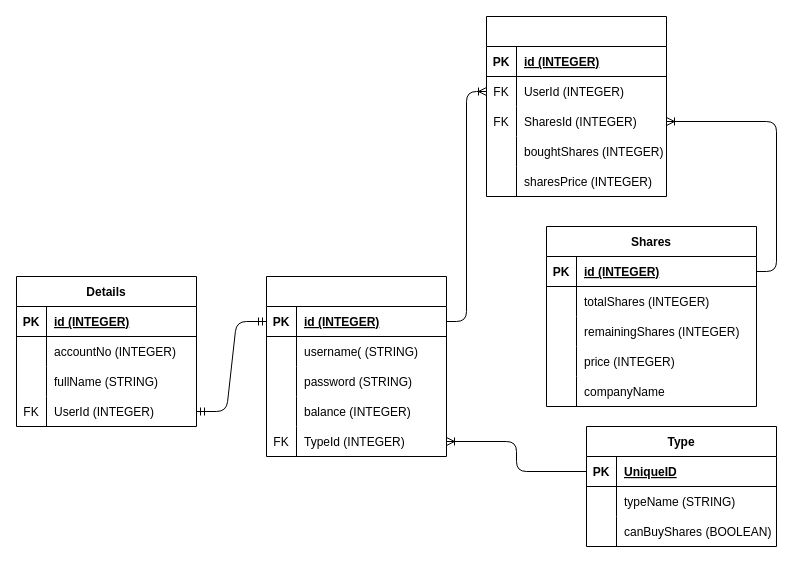
Image size: 793x563. Some labels were removed from this diagram. The shapes that lost their labels are listed below. From the top down, each one's box as (x1, y1, x2, y2) in pixels, then its label:
(486, 16, 666, 196): UserShares
(266, 276, 446, 456): Users
